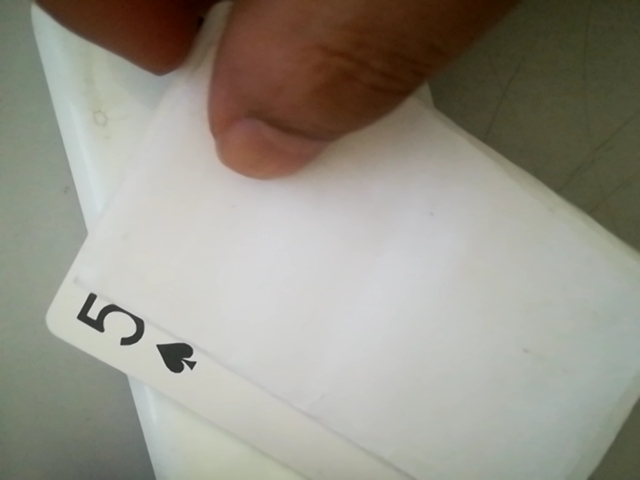ht 5: (61, 287, 215, 380)
